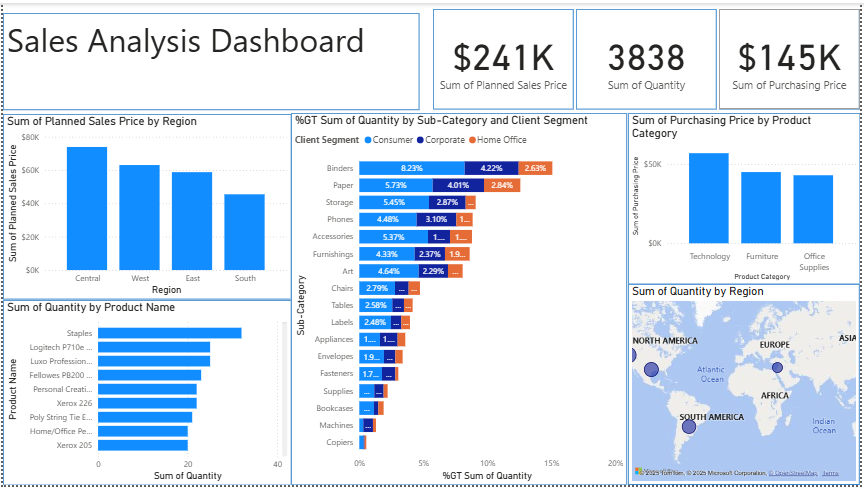

Layout of this report page (visuals, bound fields, positions):
{"tool":"powerbi","page":{"name":"Page 1","canvas":[1280,720],"ordinal":0},"visuals":[{"type":"card","fields":{"Values":["Sum(fSales.Quantity)"]},"box":[856,8.9,210,150],"z":0},{"type":"card","fields":{"Values":["Sum(fSales.Purchasing Price)"]},"box":[1070.3,8.9,210,150],"z":1000},{"type":"card","fields":{"Values":["Sum(fSales.Planned Sales Price)"]},"box":[641.8,8.9,210,150],"z":2000},{"type":"clusteredBarChart","fields":{"Category":["Products.Product Name"],"Y":["Sum(fSales.Quantity)"]},"box":[0,443.4,430.8,277.1],"z":3000},{"type":"map","fields":{"Size":["Sum(fSales.Quantity)"],"Category":["Dim Cutomer Data.Region"]},"box":[934.1,419.6,345.9,300.2],"z":4000},{"type":"barChart","fields":{"Category":["Products.Sub-Category"],"Series":["Dim Cutomer Data.Client Segment"],"Y":["Divide(Sum(fSales.Quantity), ScopedEval(Sum(fSales.Quantity), []))"]},"box":[430.8,164.5,502.3,556],"z":5000},{"type":"clusteredColumnChart","fields":{"Category":["Products.Product Category"],"Y":["Sum(fSales.Purchasing Price)"]},"box":[933.2,164.5,346.8,255.6],"z":6000},{"type":"clusteredColumnChart","fields":{"Category":["Dim Cutomer Data.Region"],"Y":["Sum(fSales.Planned Sales Price)"]},"box":[0,166.3,430.8,277.1],"z":7000},{"type":"textbox","box":[0,14.3,575.6,144.8],"z":8000}]}

Visuals, with their boxes in screenshot pixels (x1, y1, x2, y2), scaled from the page's 1280x720 canvas onto the 864x487 screenshot:
card - Sum(fSales.Quantity): {"left": 578, "top": 6, "right": 720, "bottom": 107}
card - Sum(fSales.Purchasing Price): {"left": 722, "top": 6, "right": 863, "bottom": 107}
card - Sum(fSales.Planned Sales Price): {"left": 433, "top": 6, "right": 575, "bottom": 107}
clusteredBarChart - Products.Product Name x Sum(fSales.Quantity): {"left": 0, "top": 300, "right": 291, "bottom": 486}
map - Sum(fSales.Quantity) x Dim Cutomer Data.Region: {"left": 631, "top": 284, "right": 863, "bottom": 486}
barChart - Products.Sub-Category x Dim Cutomer Data.Client Segment: {"left": 291, "top": 111, "right": 630, "bottom": 486}
clusteredColumnChart - Products.Product Category x Sum(fSales.Purchasing Price): {"left": 630, "top": 111, "right": 863, "bottom": 284}
clusteredColumnChart - Dim Cutomer Data.Region x Sum(fSales.Planned Sales Price): {"left": 0, "top": 112, "right": 291, "bottom": 300}
textbox: {"left": 0, "top": 10, "right": 389, "bottom": 108}
